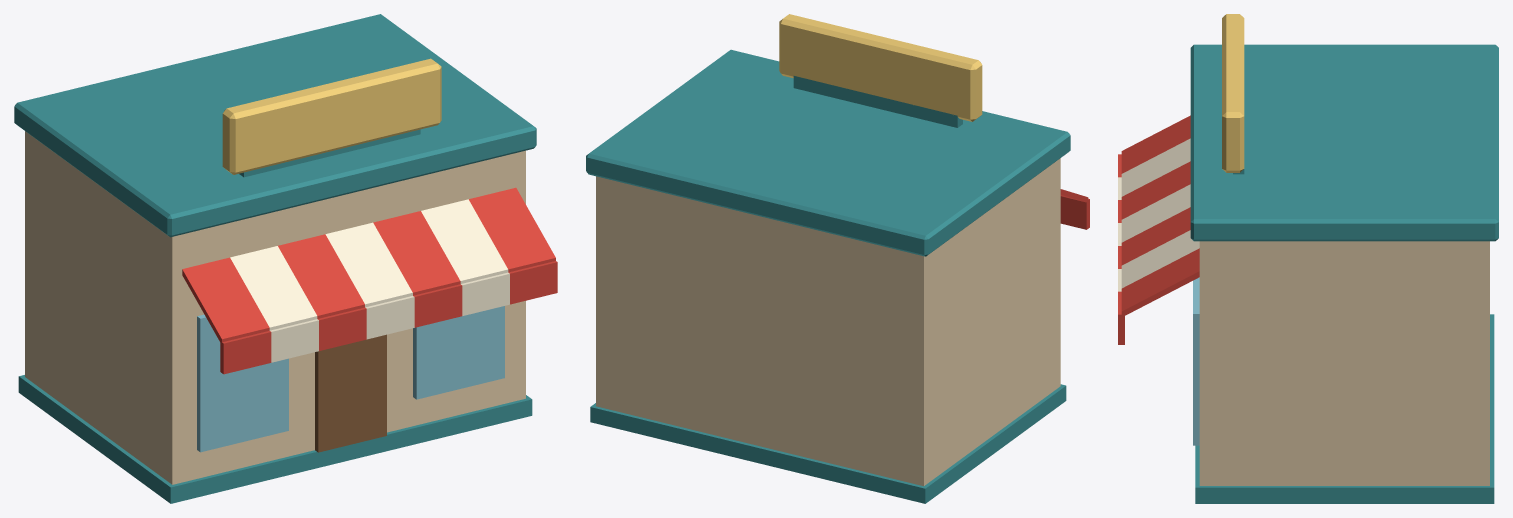
Rendered from kiosk.glb.
3 renders of one model, left to right at view 1: azimuth 30°, elevation 25°; view 2: azimuth 150°, elevation 25°; view 3: azimuth 270°, elevation 25°, orthographic. The views are drawn at different scales.
Parts seen in each view (by area): view 1: kiosk; view 2: kiosk; view 3: kiosk.
Part boxes in pixels (x1,y1,x2,y2): kiosk: (14,14,557,503); kiosk: (586,14,1089,503); kiosk: (1118,14,1498,503).
Bounding box in the file's own units: 0.376 × 0.35 × 0.341.
